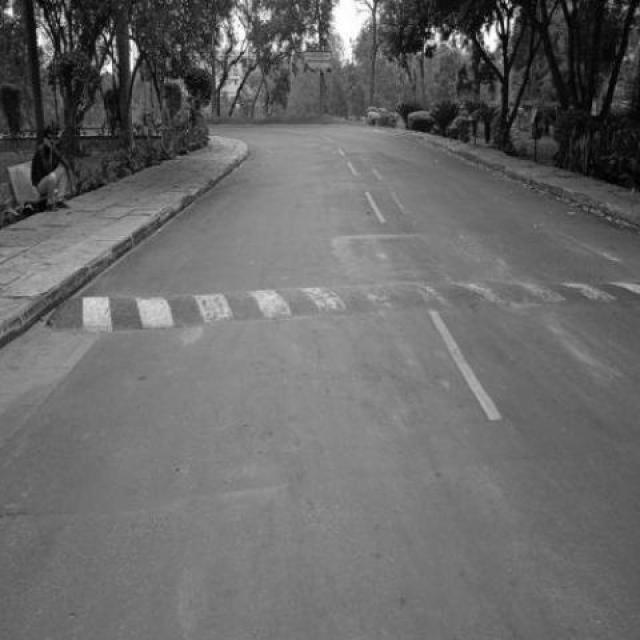Speed Bump: (44, 278, 639, 338)
